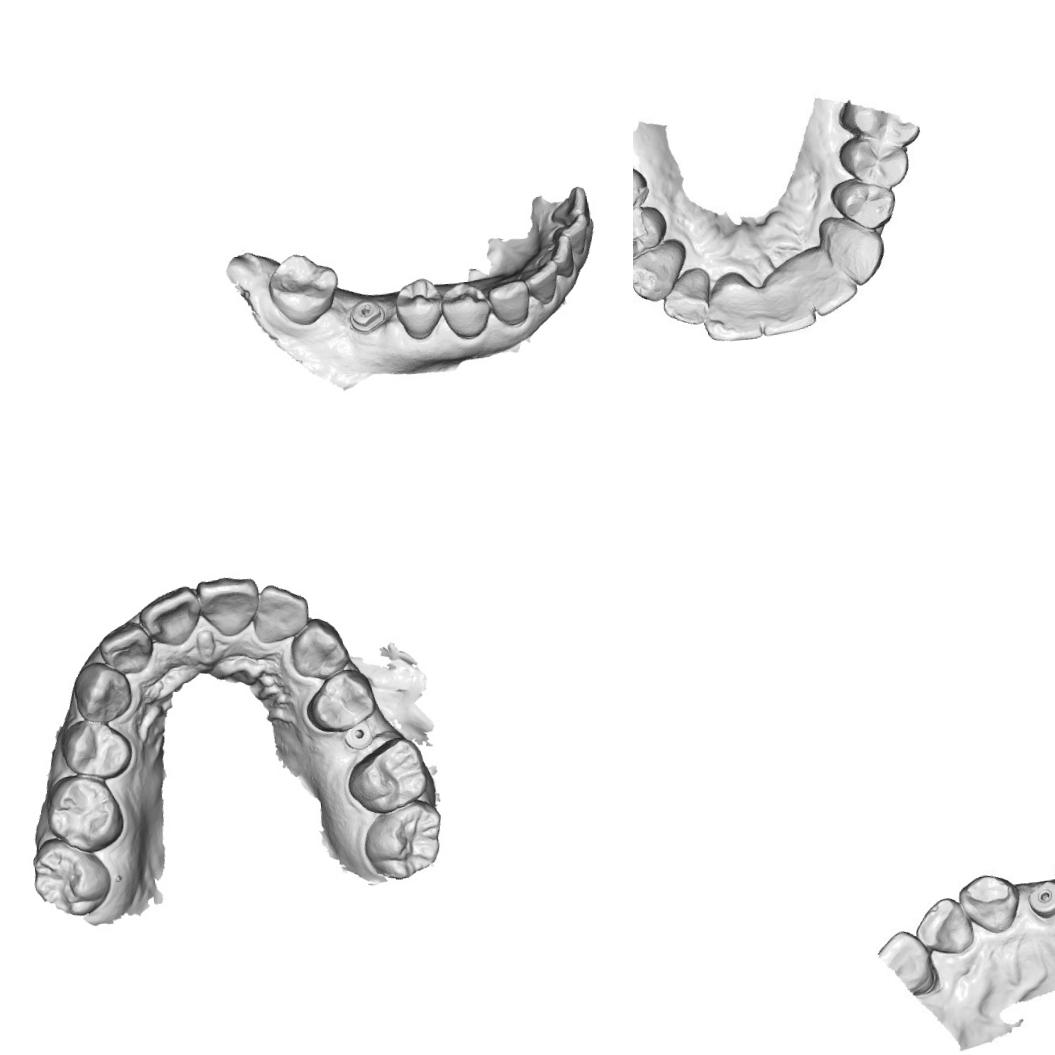canine: (822, 212, 888, 290), (66, 657, 136, 728), (285, 613, 354, 682), (957, 866, 1020, 936), (633, 239, 691, 306), (486, 278, 532, 328)
implant: (1025, 881, 1055, 925), (341, 718, 379, 752)
implant_minus: (346, 295, 387, 336)
incisor: (137, 585, 209, 653), (696, 278, 767, 346), (876, 925, 938, 999), (194, 572, 260, 637), (249, 579, 313, 646), (911, 892, 975, 958), (762, 282, 820, 341), (806, 252, 859, 316), (94, 618, 152, 676), (661, 268, 713, 332), (521, 258, 562, 308), (534, 232, 576, 280), (549, 212, 592, 258), (547, 184, 590, 224)
molar: (39, 770, 128, 858), (27, 832, 115, 920), (360, 798, 450, 884), (341, 735, 431, 816), (264, 248, 343, 329)
premolar: (55, 712, 134, 784), (302, 664, 378, 734), (836, 128, 914, 194), (828, 172, 900, 238), (392, 276, 446, 342), (438, 278, 494, 341), (633, 205, 670, 260), (633, 161, 650, 227)
